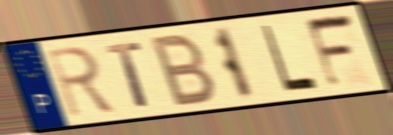1: (210, 24, 258, 103)
B: (149, 30, 219, 110)
F: (303, 10, 358, 92)
L: (259, 22, 321, 94)
R: (44, 44, 119, 121)
T: (103, 39, 152, 109)
